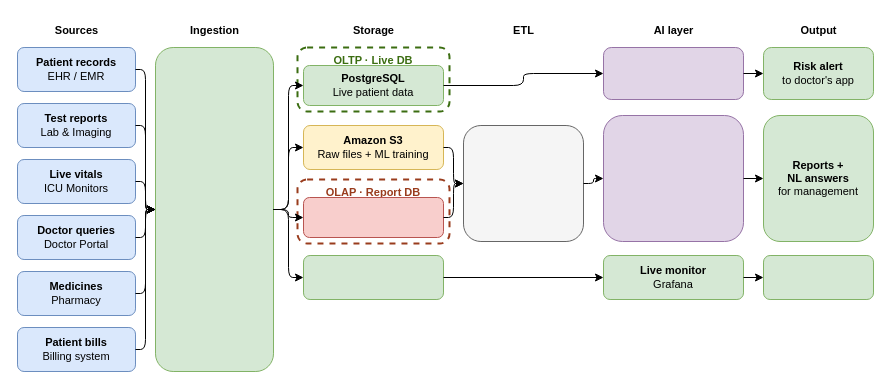
Some shapes in this 891 by 389 pixel diagram are drawn without their labels. Here are the shapes that lost their labels. From the top down, the centre of each, then its label:
At point 673,73: "ML Model (Readmission Prediction)".
At point 523,183: "ETL Pipeline Apache Spark S3 → Redshift".
At point 673,178: "NLP Model (English → SQL Query)".
At point 214,209: "Kafka (Streaming platform) Message bus".
At point 373,217: "Redshift Monthly reports".
At point 373,277: "InfluxDB Real-time ICU vitals".
At point 818,277: "ICU screen live + alerts".
